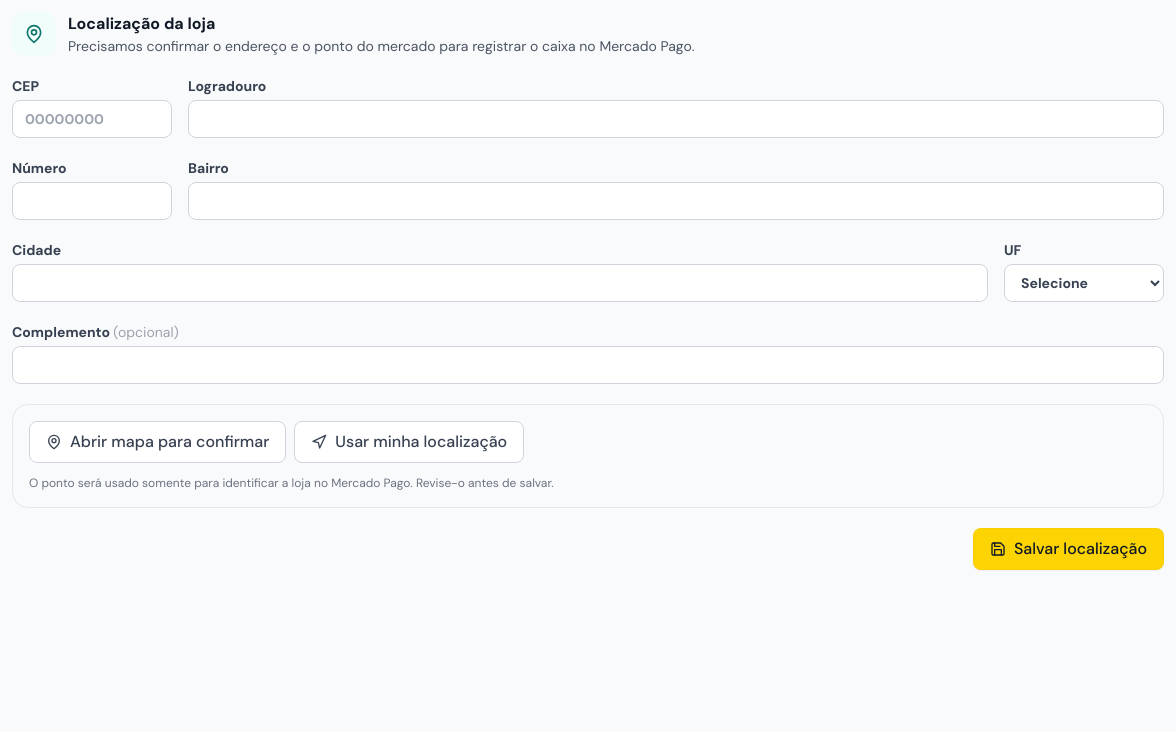
Test: PixLocationSetup › fills address fields from a valid CEP and keeps manual editing available
Type "01001000" into the field labelled "CEP" at point(92, 119), box [12,100,172,138]
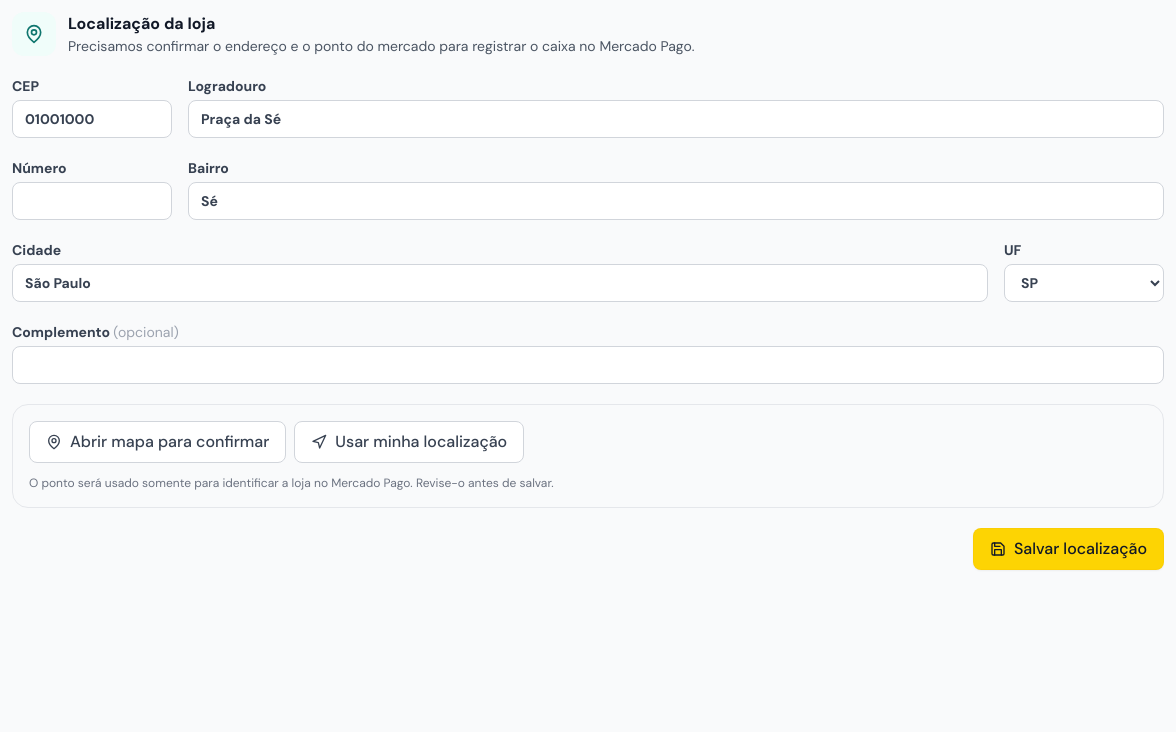
Check: the field labelled "Número" is enabled, box [12,182,172,220]
Check: the field labelled "Logradouro" holds "Praça da Sé", box [188,100,1164,138]
